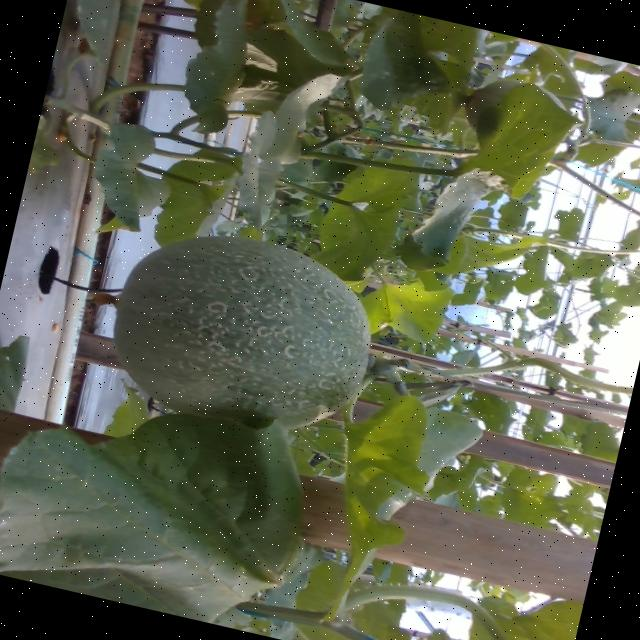melon: (112, 237, 368, 429)
